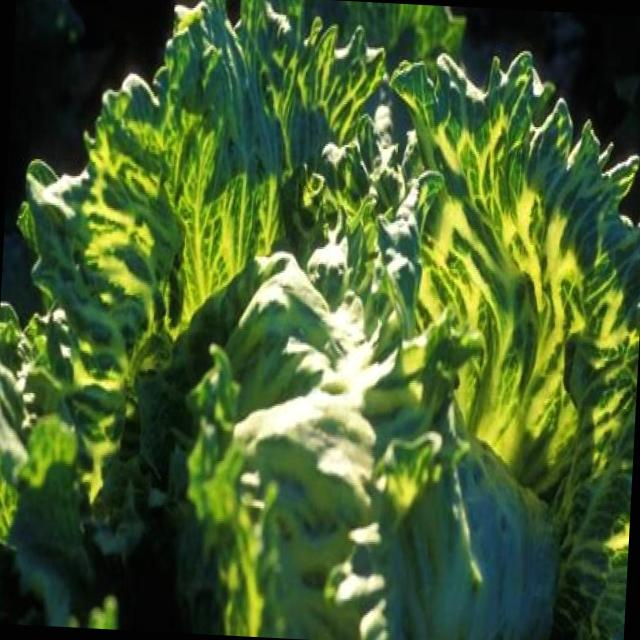lettuce mosaic virus: (28, 23, 613, 631)
